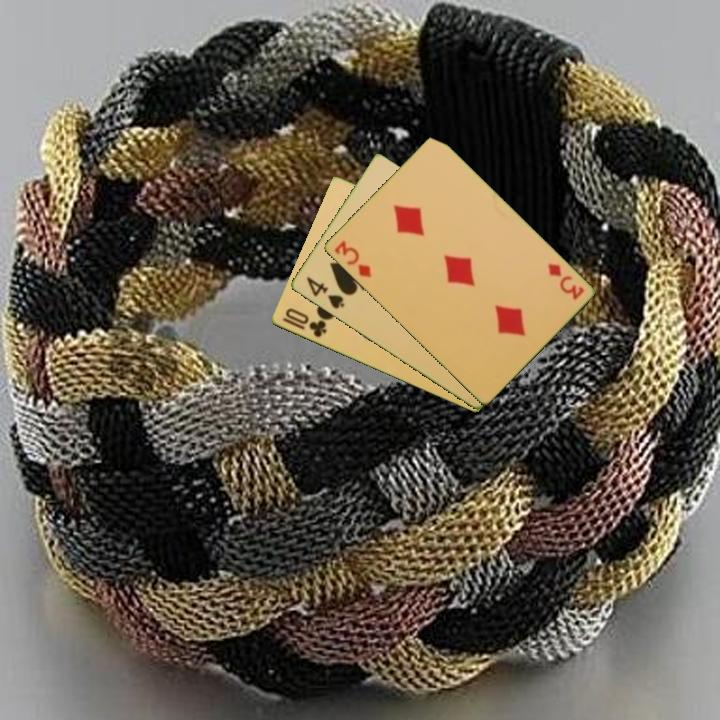10c: (278, 305, 329, 340)
3d: (330, 237, 374, 280), (544, 260, 587, 303)
4s: (302, 273, 347, 312)
